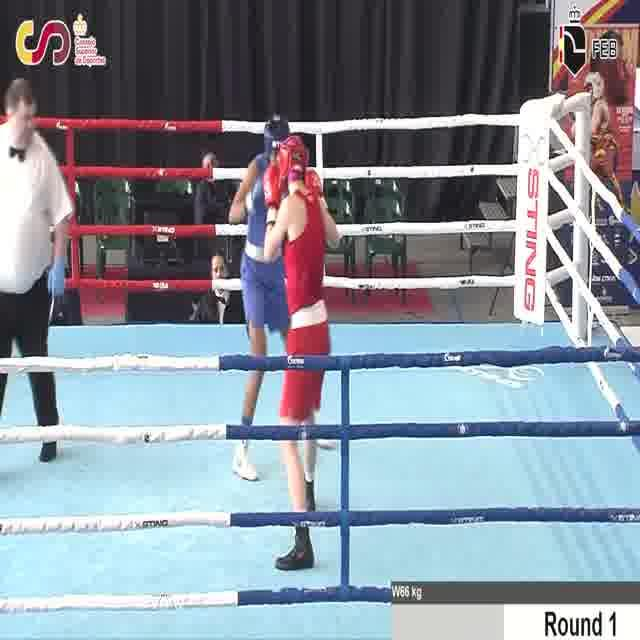blue-player: (227, 111, 337, 484)
red-player: (258, 133, 341, 573)
referee: (0, 73, 74, 467)
